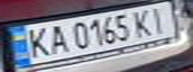0: (69, 19, 90, 49)
1: (87, 16, 106, 47)
5: (115, 11, 136, 43)
6: (100, 12, 121, 45)
A: (42, 22, 72, 55)
I: (145, 3, 172, 35)
K: (18, 25, 54, 58), (130, 7, 157, 38)
